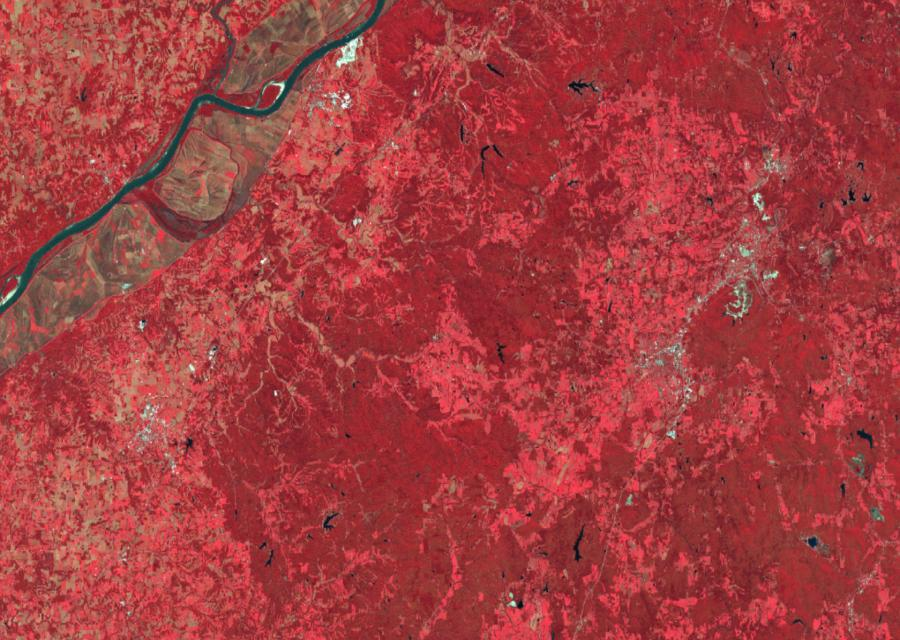Potential Lime Manufacturing Facility: (336, 37, 359, 69)
